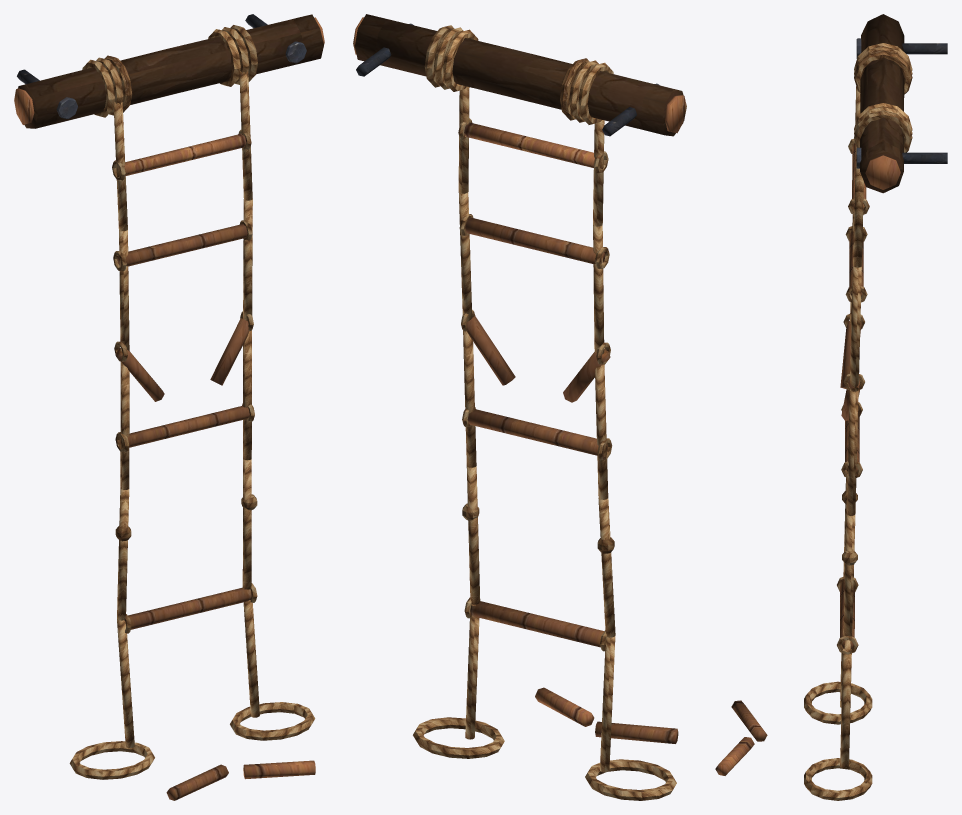
File: rope_ladder_broken.glb
3 views of the same model, side by side, from view 1: azimuth 30°, elevation 25°; view 2: azimuth 150°, elevation 25°; view 3: azimuth 270°, elevation 25° (orthographic). The views are drawn at different scales.
Visible parts, largest first — view 1: model; view 2: model; view 3: model.
Part boxes in pixels (bbox=[...]): model: bbox=[14, 14, 324, 800]; model: bbox=[353, 14, 686, 800]; model: bbox=[715, 14, 947, 800].
Bounding box in the file's own units: 1.02 × 2.29 × 0.7208.
Materials: 9 (9 with a texture image).
